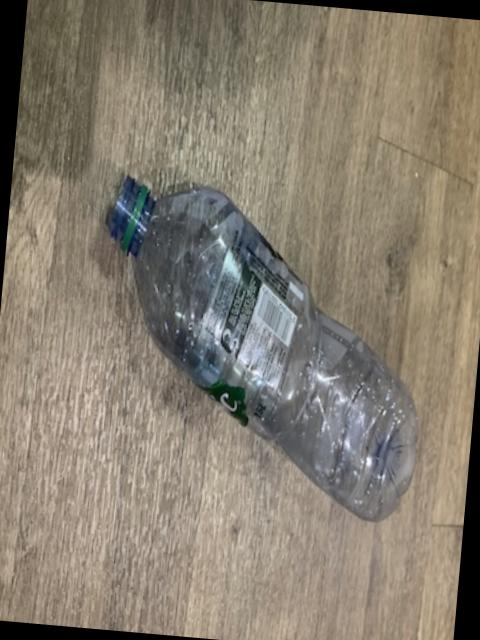plastic: (108, 175, 415, 518)
